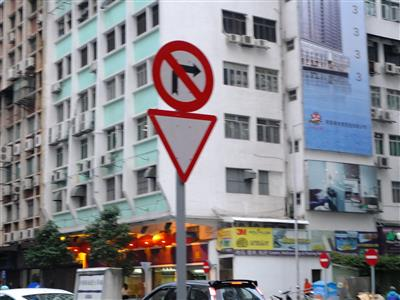noEntry: (317, 250, 332, 269), (364, 247, 378, 265), (201, 259, 212, 274)
noRightTurn: (151, 39, 216, 112)
yield: (145, 105, 217, 185)
